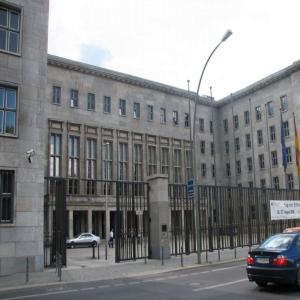Vehicle-registration-plate: (260, 258, 270, 265)
